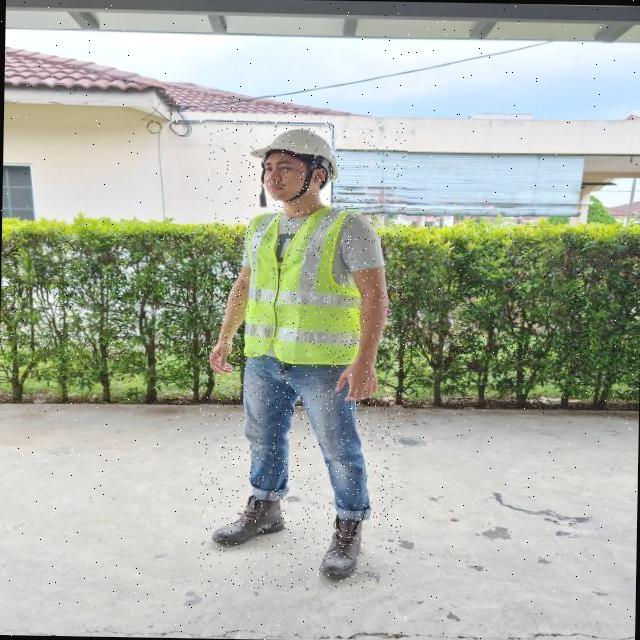boots: (208, 494, 290, 550), (316, 513, 364, 582)
helmet: (248, 126, 342, 184)
vest: (240, 202, 369, 368)
